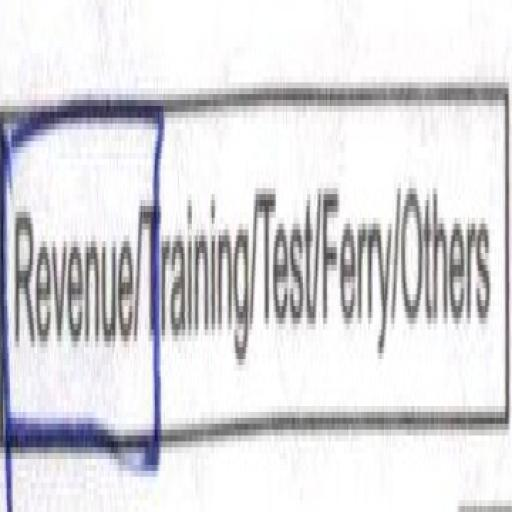check: (0, 41, 148, 512)
